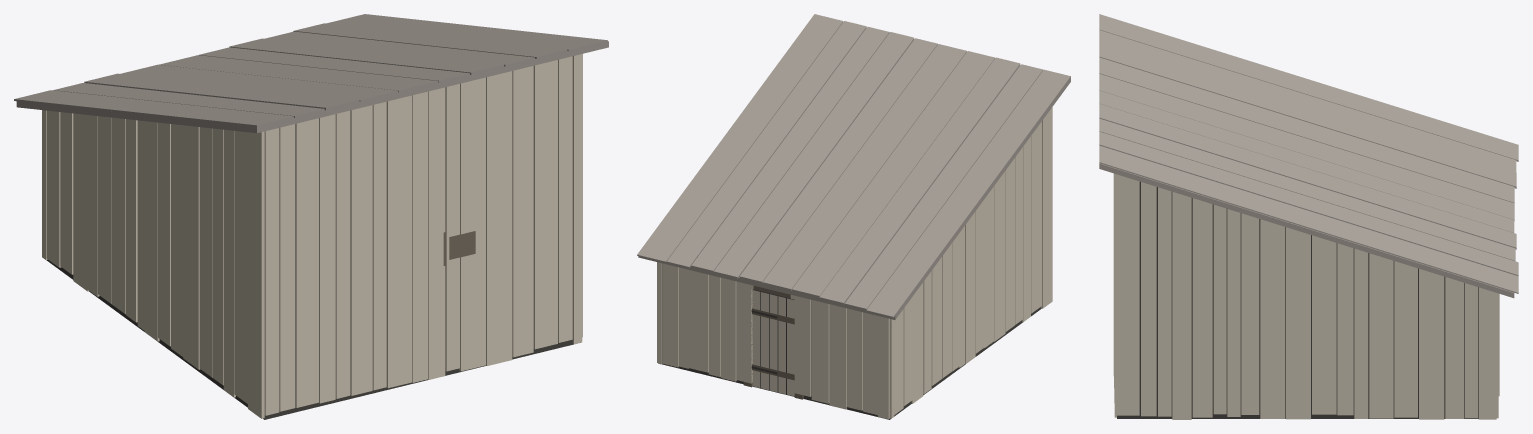
File: recon_1835_north_d2_077__inferred_1835.glb
The picture shows the model from 3 angles, left to right: view 1: azimuth 30°, elevation 25°; view 2: azimuth 150°, elevation 25°; view 3: azimuth 270°, elevation 25°; orthographic projection. The views are drawn at different scales.
Visible parts, largest first — view 1: recon_1835_north_d2_077__inferred_1835; view 2: recon_1835_north_d2_077__inferred_1835; view 3: recon_1835_north_d2_077__inferred_1835.
Boxes of the visible parts, x1=… form: recon_1835_north_d2_077__inferred_1835: x1=14, y1=14, x2=608, y2=419; recon_1835_north_d2_077__inferred_1835: x1=637, y1=14, x2=1070, y2=419; recon_1835_north_d2_077__inferred_1835: x1=1099, y1=14, x2=1518, y2=419.
Bounding box in the file's own units: 5.15 × 4.29 × 6.16.
